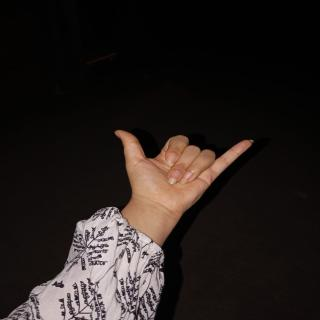YA: (105, 108, 266, 218)
